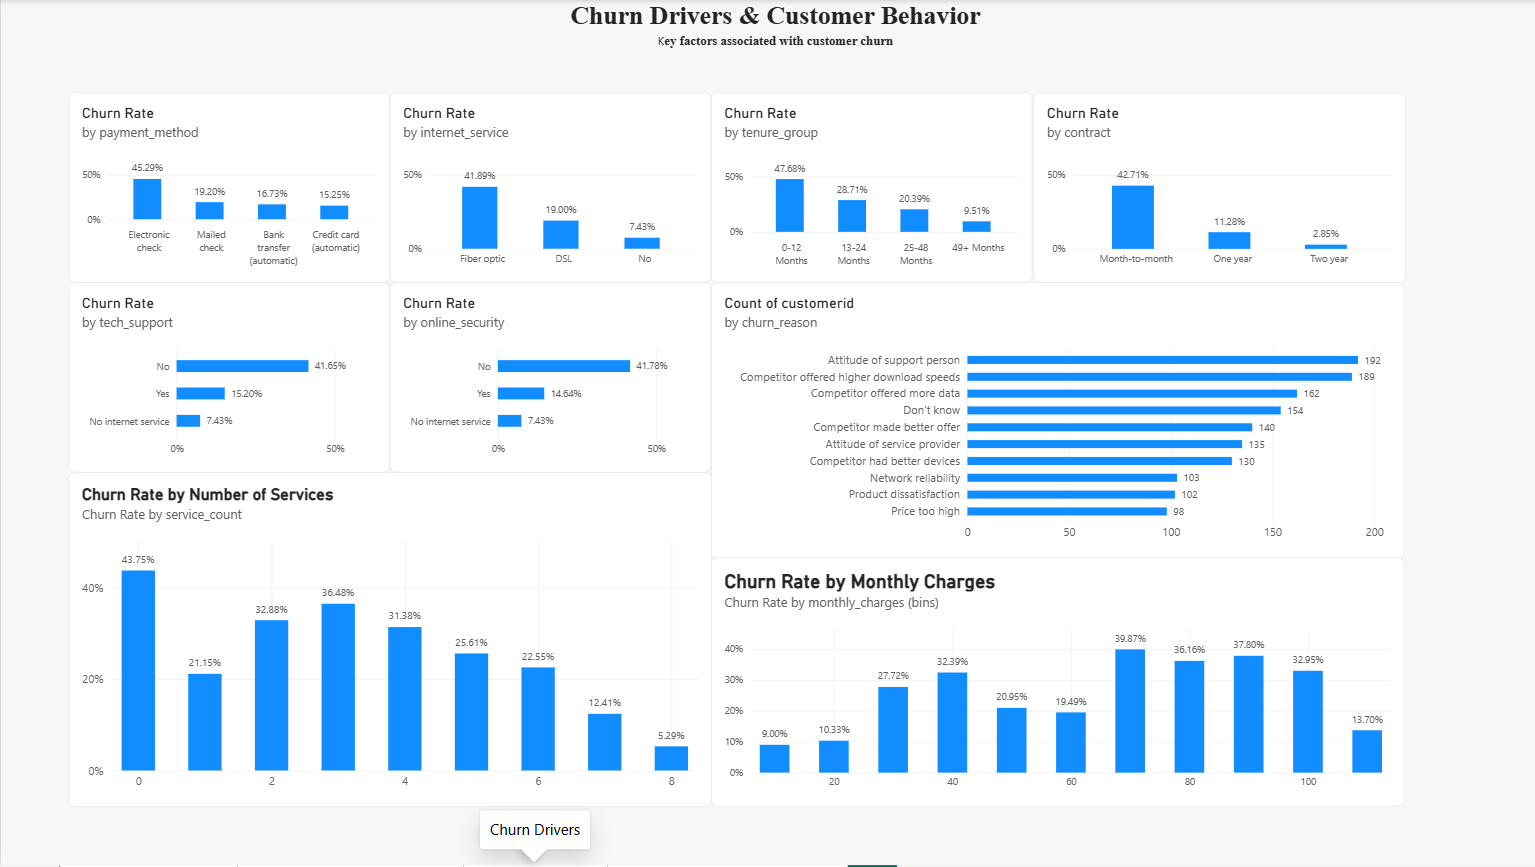

What the dashboard file says about the page in this screenshot:
{"tool":"powerbi","page":{"name":"Churn Drivers","canvas":[1920,1080],"ordinal":2},"visuals":[{"type":"textbox","box":[10.5,0,1909.9,78.5],"z":0},{"type":"textbox","box":[10.5,40.1,1909.9,38.4],"z":1000},{"type":"clusteredColumnChart","fields":{"Category":["customer_churn_predictions.payment_method"],"Y":["public customer_churn.Churn Rate"]},"box":[83.7,115.1,401.2,237.2],"z":2000},{"type":"clusteredColumnChart","fields":{"Category":["customer_churn_predictions.internet_service"],"Y":["public customer_churn.Churn Rate"]},"box":[484.9,115.1,401,237],"z":3000},{"type":"clusteredColumnChart","fields":{"Category":["customer_churn_predictions.contract"],"Y":["public customer_churn.Churn Rate"]},"box":[1287.2,115.1,464,237.2],"z":4000},{"type":"clusteredColumnChart","fields":{"Category":["public customer_churn.tenure_group"],"Y":["public customer_churn.Churn Rate"]},"box":[886,115.1,401,237],"z":5000},{"type":"clusteredBarChart","fields":{"Category":["customer_churn_predictions.tech_support"],"Y":["public customer_churn.Churn Rate"]},"box":[83.7,352.3,401,237],"z":6000},{"type":"clusteredBarChart","fields":{"Category":["customer_churn_predictions.online_security"],"Y":["public customer_churn.Churn Rate"]},"box":[484.9,352.3,401,237],"z":7000},{"type":"clusteredBarChart","fields":{"Category":["public customer_churn.churn_reason"],"Y":["CountNonNull(customer_churn_predictions.customerid)"]},"box":[886,352.3,865.1,343.6],"z":8000},{"type":"clusteredColumnChart","title":"Churn Rate by Monthly Charges","fields":{"Category":["customer_churn_predictions.monthly_charges (bins)"],"Y":["public customer_churn.Churn Rate"]},"box":[886,695.9,865.1,310.5],"z":9000},{"type":"clusteredColumnChart","title":"Churn Rate by Number of Services","fields":{"Category":["public customer_churn.service_count"],"Y":["public customer_churn.Churn Rate"]},"box":[83.7,589.5,802.3,416.9],"z":10000}]}

Visuals, with their boxes on the page's 1920x1080 design canvas (x1, y1, x2, y2). These are canvas units, not pixel positions in the 1535x867 screenshot, which may show the page scaled, cropped or inside an application window:
textbox: [left=10, top=0, right=1920, bottom=78]
textbox: [left=10, top=40, right=1920, bottom=78]
clusteredColumnChart - customer_churn_predictions.payment_method x public customer_churn.Churn Rate: [left=84, top=115, right=485, bottom=352]
clusteredColumnChart - customer_churn_predictions.internet_service x public customer_churn.Churn Rate: [left=485, top=115, right=886, bottom=352]
clusteredColumnChart - customer_churn_predictions.contract x public customer_churn.Churn Rate: [left=1287, top=115, right=1751, bottom=352]
clusteredColumnChart - public customer_churn.tenure_group x public customer_churn.Churn Rate: [left=886, top=115, right=1287, bottom=352]
clusteredBarChart - customer_churn_predictions.tech_support x public customer_churn.Churn Rate: [left=84, top=352, right=485, bottom=589]
clusteredBarChart - customer_churn_predictions.online_security x public customer_churn.Churn Rate: [left=485, top=352, right=886, bottom=589]
clusteredBarChart - public customer_churn.churn_reason x CountNonNull(customer_churn_predictions.customerid): [left=886, top=352, right=1751, bottom=696]
"Churn Rate by Monthly Charges" clusteredColumnChart: [left=886, top=696, right=1751, bottom=1006]
"Churn Rate by Number of Services" clusteredColumnChart: [left=84, top=590, right=886, bottom=1006]
